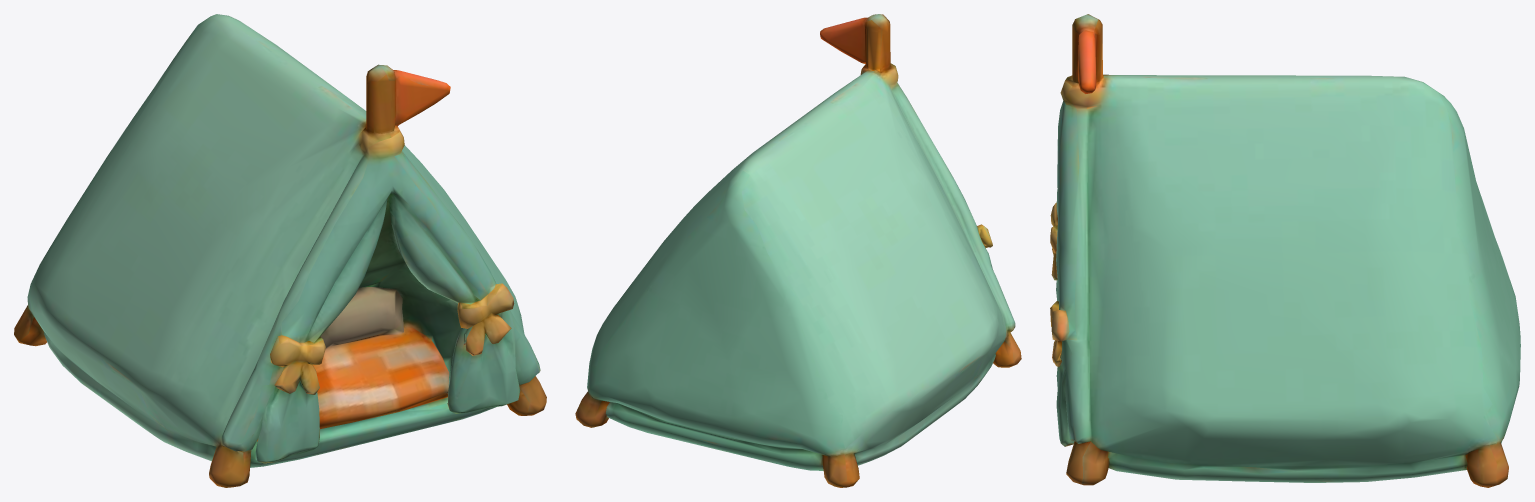
Rendered from tent.glb.
The picture shows the model from 3 angles, left to right: view 1: azimuth 30°, elevation 25°; view 2: azimuth 150°, elevation 25°; view 3: azimuth 270°, elevation 25°; orthographic projection. The views are drawn at different scales.
Parts seen in each view (by area): view 1: textured_mesh.obj; view 2: textured_mesh.obj; view 3: textured_mesh.obj.
Boxes of the visible parts, <box> form: textured_mesh.obj: <box>14,14,546,487</box>; textured_mesh.obj: <box>575,14,1021,487</box>; textured_mesh.obj: <box>1050,14,1520,487</box>.
Size of what is drawn, in the model's own units: 1.59 by 1.6 by 1.72.
Materials: 1 (1 with a texture image).
